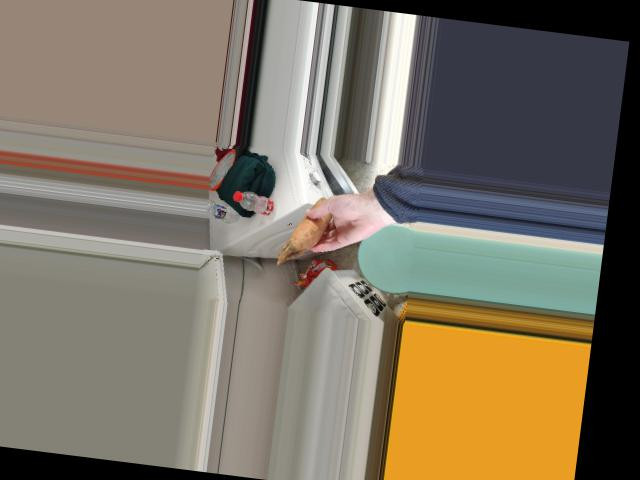sweet_potato: (288, 201, 338, 252)
